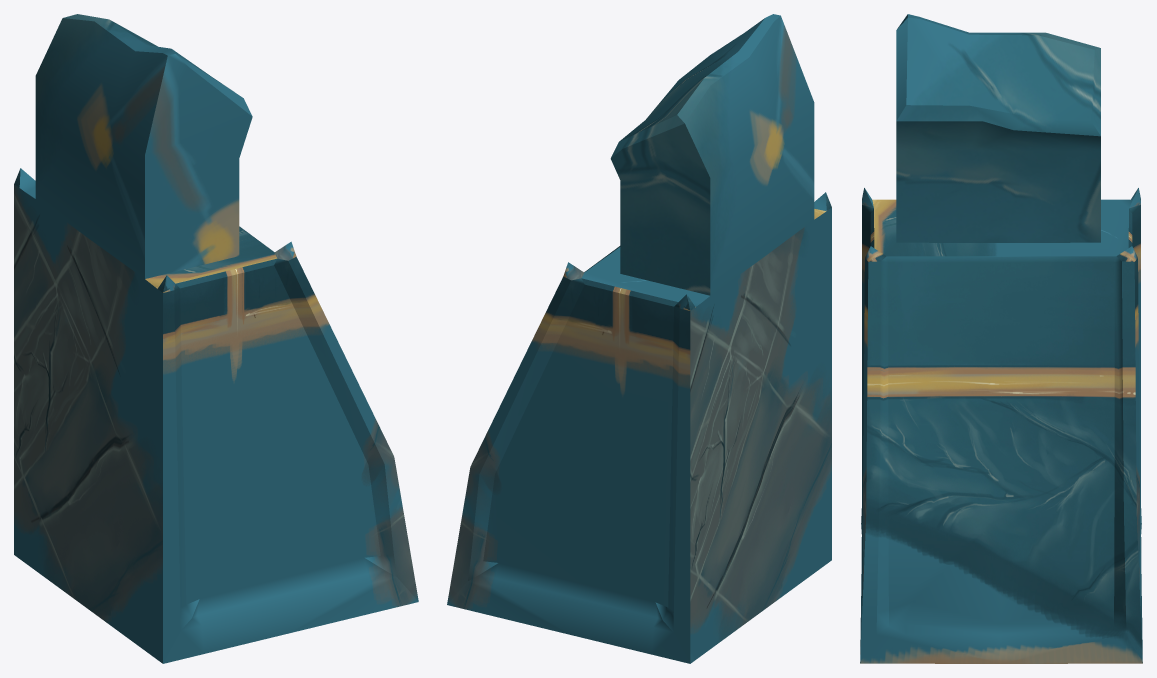
The model's file is archbase.fbx.
3 views of the same model, side by side, from view 1: azimuth 30°, elevation 25°; view 2: azimuth 150°, elevation 25°; view 3: azimuth 270°, elevation 25° (orthographic). The views are drawn at different scales.
Visible parts, largest first — view 1: pCube3; view 2: pCube3; view 3: pCube3.
Boxes of the visible parts, <box> form: pCube3: <box>14,14,418,663</box>; pCube3: <box>447,14,831,663</box>; pCube3: <box>860,14,1142,663</box>.
Bounding box in the file's own units: 10.78 × 23.59 × 11.05.
